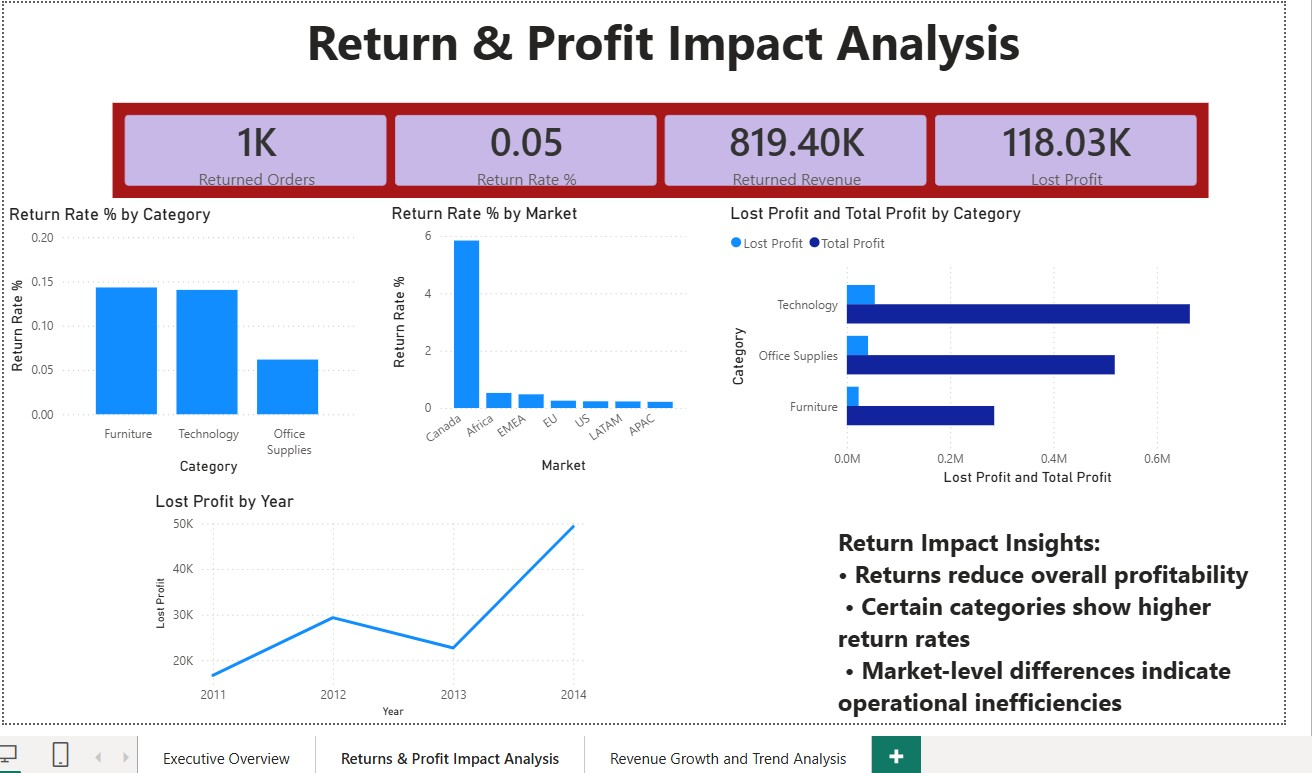

The page's visual inventory and layout, read from the dashboard file:
{"tool":"powerbi","page":{"name":"Returns & Profit Impact Analysis","canvas":[1280,720],"ordinal":1},"visuals":[{"type":"clusteredColumnChart","fields":{"Category":["Orders.Category"],"Y":["Orders.Return Rate %"]},"box":[0,201.2,355,275],"z":0},{"type":"cardVisual","fields":{"Data":["Orders.Returned Orders","Orders.Return Rate %","Orders.Returned Revenue","Orders.Lost Profit"]},"box":[103.8,95.3,1109.8,105.5],"z":1},{"type":"clusteredColumnChart","fields":{"Category":["Orders.Market"],"Y":["Orders.Return Rate %"]},"box":[382.5,200,305,275],"z":2},{"type":"clusteredBarChart","fields":{"Category":["Orders.Category"],"Y":["Orders.Lost Profit","Orders.Total Profit"]},"box":[721.2,200,502.5,287.5],"z":3},{"type":"lineChart","fields":{"Category":["Orders.Order_Date.Variation.Date Hierarchy.Year"],"Y":["Orders.Lost Profit"]},"box":[146.2,487.5,441.2,232.5],"z":4},{"type":"textbox","box":[828.8,517.5,451.2,202.5],"z":5},{"type":"textbox","box":[226.2,0,866.2,95],"z":6}]}

Visuals, with their boxes on the page's 1280x720 design canvas (x1, y1, x2, y2). These are canvas units, not pixel positions in the 1312x773 screenshot, which may show the page scaled, cropped or inside an application window:
clusteredColumnChart - Orders.Category x Orders.Return Rate %: (left=0, top=201, right=355, bottom=476)
cardVisual - Orders.Returned Orders x Orders.Return Rate %: (left=104, top=95, right=1214, bottom=201)
clusteredColumnChart - Orders.Market x Orders.Return Rate %: (left=382, top=200, right=688, bottom=475)
clusteredBarChart - Orders.Category x Orders.Lost Profit: (left=721, top=200, right=1224, bottom=488)
lineChart - Orders.Order_Date.Variation.Date Hierarchy.Year x Orders.Lost Profit: (left=146, top=488, right=587, bottom=720)
textbox: (left=829, top=518, right=1280, bottom=720)
textbox: (left=226, top=0, right=1092, bottom=95)
